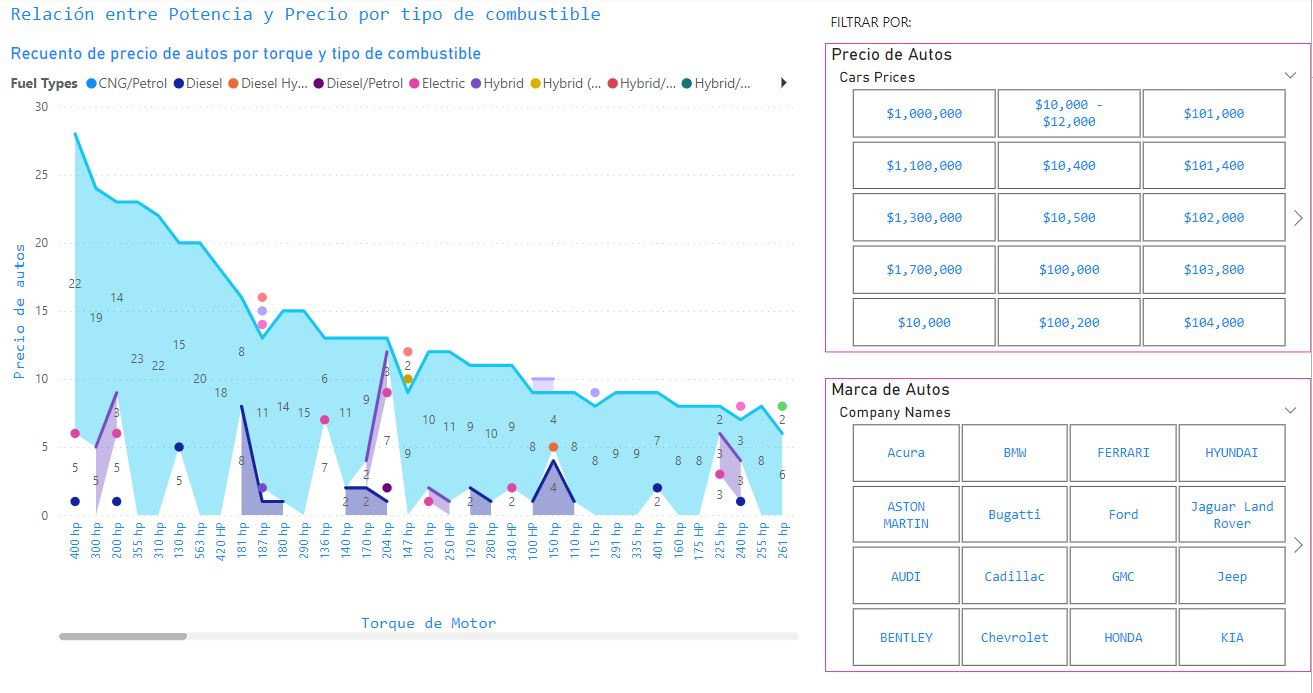

What the dashboard file says about the page in this screenshot:
{"tool":"powerbi","page":{"name":"Ejercicio 2","canvas":[1280,720],"ordinal":1},"visuals":[{"type":"textbox","box":[9.7,0,743.1,53.5],"z":0},{"type":"stackedAreaChart","title":"Recuento de precio de autos por torque y tipo de combustible ","fields":{"Category":["Cars Dataset 2024.HorsePower"],"Y":["CountNonNull(Cars Dataset 2024.Cars Prices)"],"Series":["Cars Dataset 2024.Fuel Types"]},"box":[9.7,44.7,777.1,586.5],"z":1000},{"type":"slicer","title":"Precio de Autos","fields":{"Values":["Cars Dataset 2024.Cars Prices"]},"box":[807.3,44.7,472.7,300.5],"z":2000},{"type":"slicer","title":"Marca de Autos","fields":{"Values":["Cars Dataset 2024.Company Names"]},"box":[807.3,370.6,472.7,286],"z":3000},{"type":"textbox","box":[807.3,9.7,299.6,35],"z":4001}]}

Visuals, with their boxes on the page's 1280x720 design canvas (x1, y1, x2, y2). These are canvas units, not pixel positions in the 1313x693 screenshot, which may show the page scaled, cropped or inside an application window:
textbox: pyautogui.locateOnScreen(10, 0, 753, 54)
"Recuento de precio de autos por torque y tipo de combustible " stackedAreaChart: pyautogui.locateOnScreen(10, 45, 787, 631)
"Precio de Autos" slicer: pyautogui.locateOnScreen(807, 45, 1280, 345)
"Marca de Autos" slicer: pyautogui.locateOnScreen(807, 371, 1280, 657)
textbox: pyautogui.locateOnScreen(807, 10, 1107, 45)
